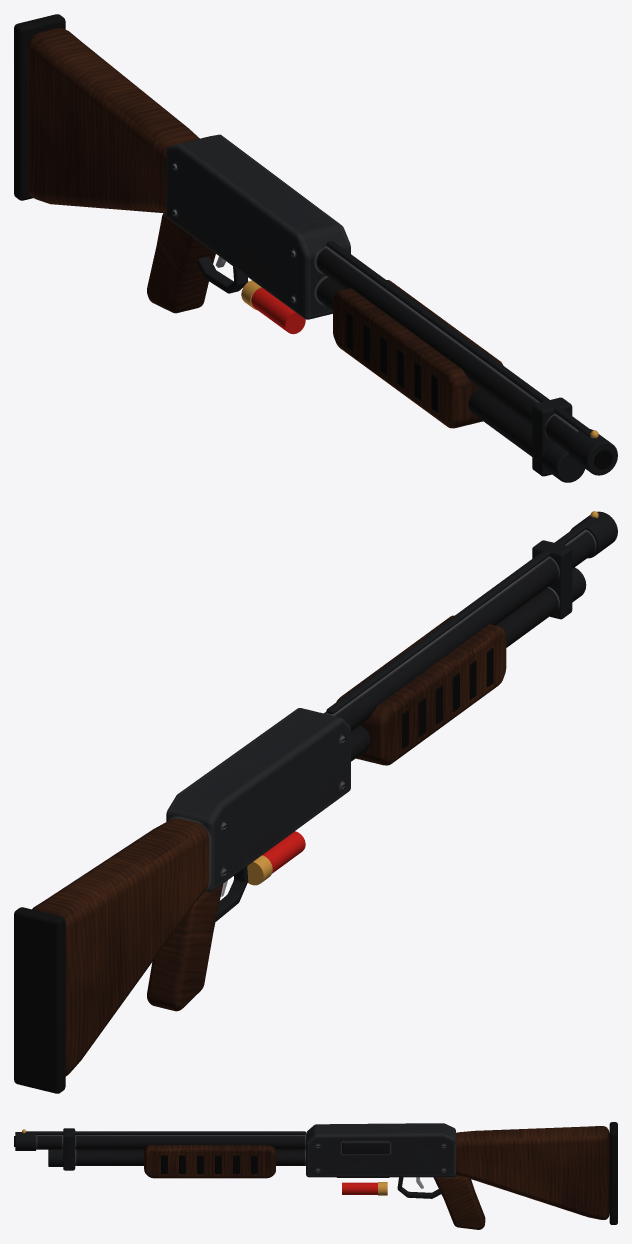
File: DHAMAKA_12.fbx
3 views of the same model, one above another, from view 1: azimuth 30°, elevation 25°; view 2: azimuth 150°, elevation 25°; view 3: azimuth 270°, elevation 25° (orthographic). The views are drawn at different scales.
Parts seen in each view (by area): view 1: DHAMAKA_12_LOD0, Slide_LOD0, Mag_LOD0; view 2: DHAMAKA_12_LOD0, Slide_LOD0, Mag_LOD0; view 3: DHAMAKA_12_LOD0, Slide_LOD0, Mag_LOD0.
Part boxes in pixels (x1=…): DHAMAKA_12_LOD0: x1=14, y1=14, x2=617, y2=482; Slide_LOD0: x1=333, y1=280, x2=503, y2=428; Mag_LOD0: x1=241, y1=280, x2=305, y2=334; DHAMAKA_12_LOD0: x1=14, y1=511, x2=617, y2=1093; Slide_LOD0: x1=336, y1=615, x2=506, y2=765; Mag_LOD0: x1=247, y1=831, x2=305, y2=885; DHAMAKA_12_LOD0: x1=14, y1=1122, x2=617, y2=1229; Slide_LOD0: x1=144, y1=1145, x2=275, y2=1178; Mag_LOD0: x1=342, y1=1182, x2=387, y2=1195.
Size of what is drawn, in the model's own units: 0.0584 by 0.1832 by 1.01.
